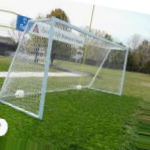goals: (1, 15, 131, 121)
